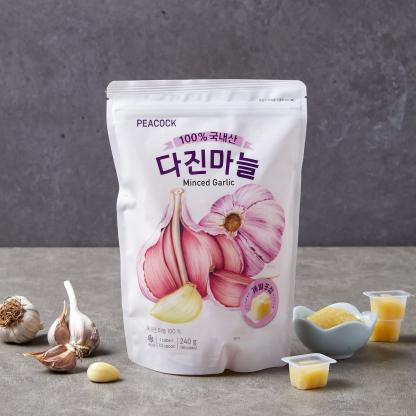garlic: (140, 193, 209, 292), (202, 190, 284, 268), (46, 292, 111, 348), (138, 286, 210, 322), (4, 294, 44, 344), (30, 344, 77, 376), (85, 363, 125, 385)
